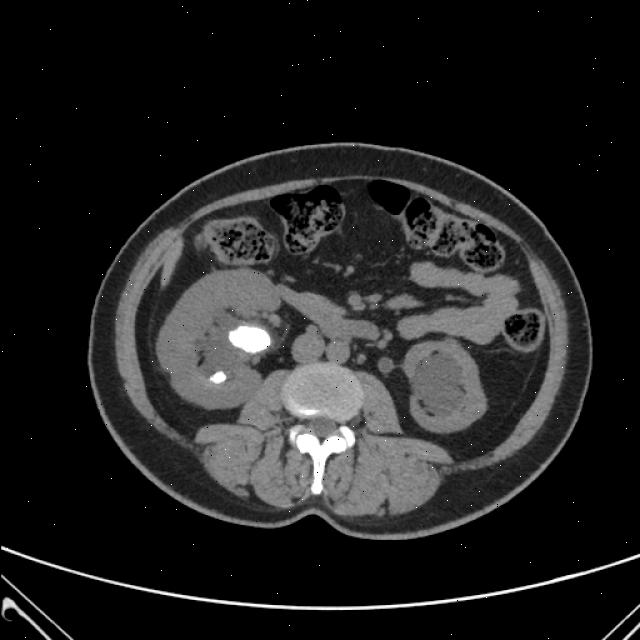kidneystone: (229, 326, 271, 353), (210, 371, 226, 383)
